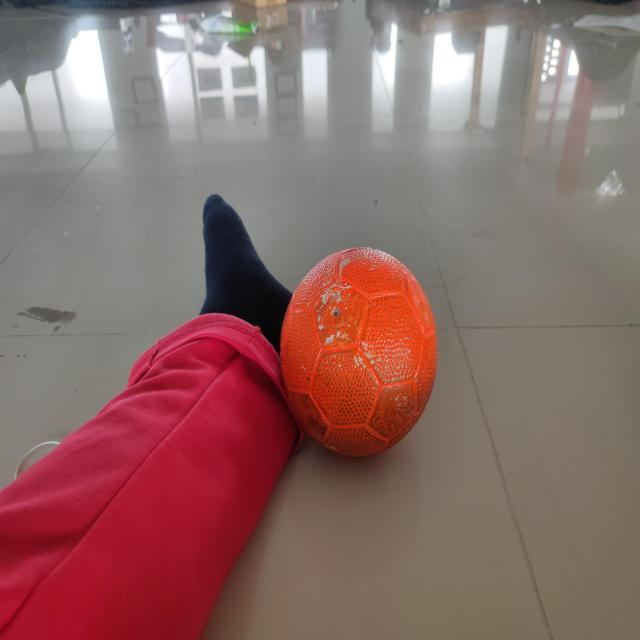bola: (275, 239, 442, 461)
